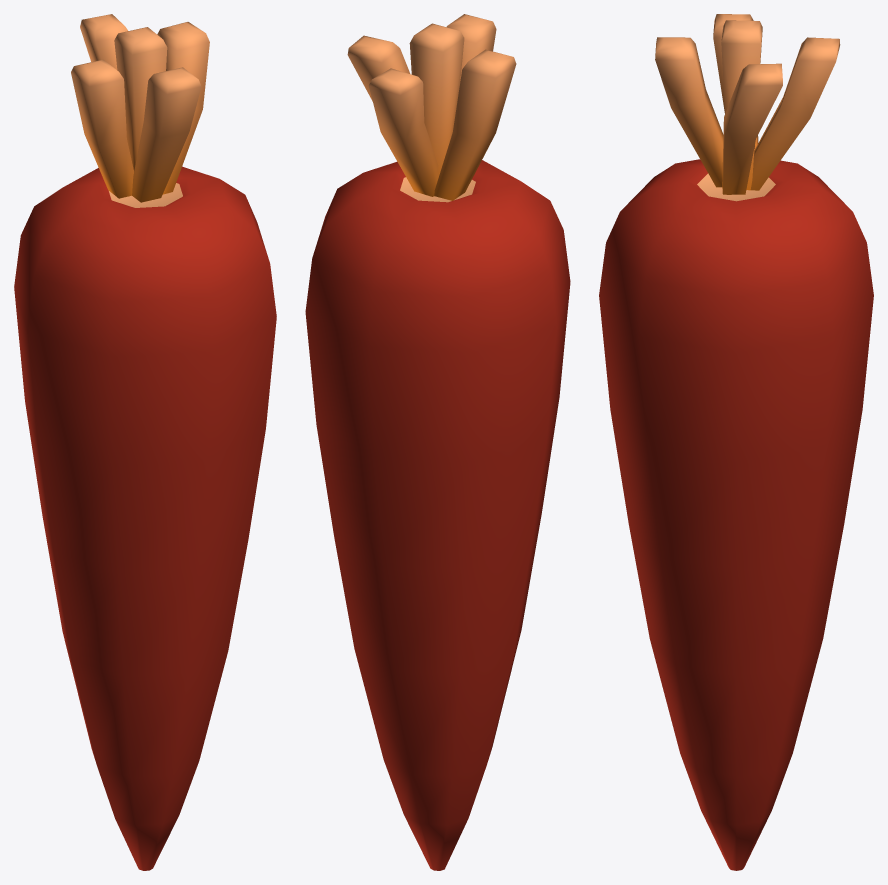
Rendered from Carrot.fbx.
3 views of the same model, side by side, from view 1: azimuth 30°, elevation 25°; view 2: azimuth 150°, elevation 25°; view 3: azimuth 270°, elevation 25° (orthographic).
Parts seen in each view (by area): view 1: Carrot; view 2: Carrot; view 3: Carrot.
Part boxes in pixels (<box>): Carrot: <box>14,14,276,870</box>; Carrot: <box>305,14,570,870</box>; Carrot: <box>599,14,873,870</box>.
Size of the model in its own units: 41.22 by 41.22 by 139.
